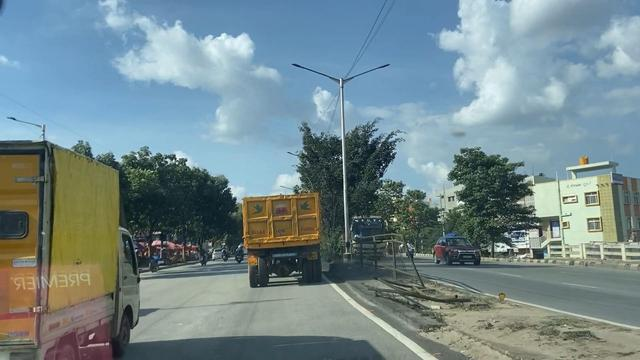HMV: (9, 134, 143, 360), (234, 192, 326, 291)
